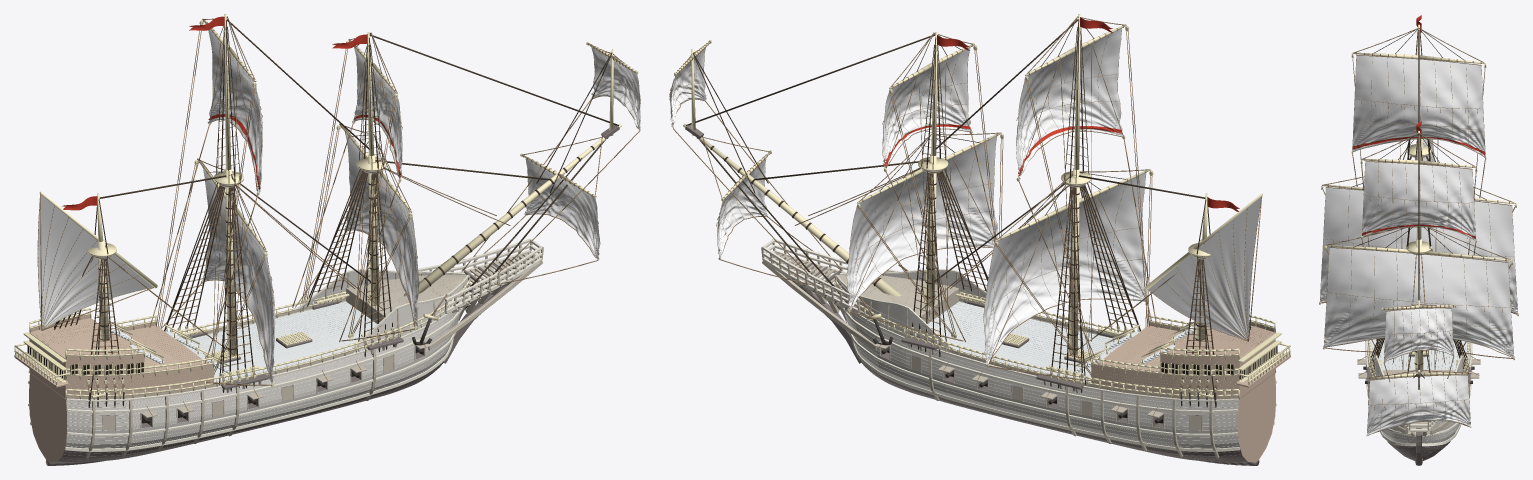
File: 安达卢西亚号.fbx
3 views of the same model, side by side, from view 1: azimuth 30°, elevation 25°; view 2: azimuth 150°, elevation 25°; view 3: azimuth 270°, elevation 25° (orthographic). The views are drawn at different scales.
Visible parts, largest first — view 1: 安达卢西亚号; view 2: 安达卢西亚号; view 3: 安达卢西亚号.
Part boxes in pixels (box(x1,y1,x2,y2)): 安达卢西亚号: box(14, 14, 640, 465); 安达卢西亚号: box(669, 14, 1290, 465); 安达卢西亚号: box(1319, 15, 1518, 465).
Bounding box in the file's own units: 5642 × 3796 × 1901.
